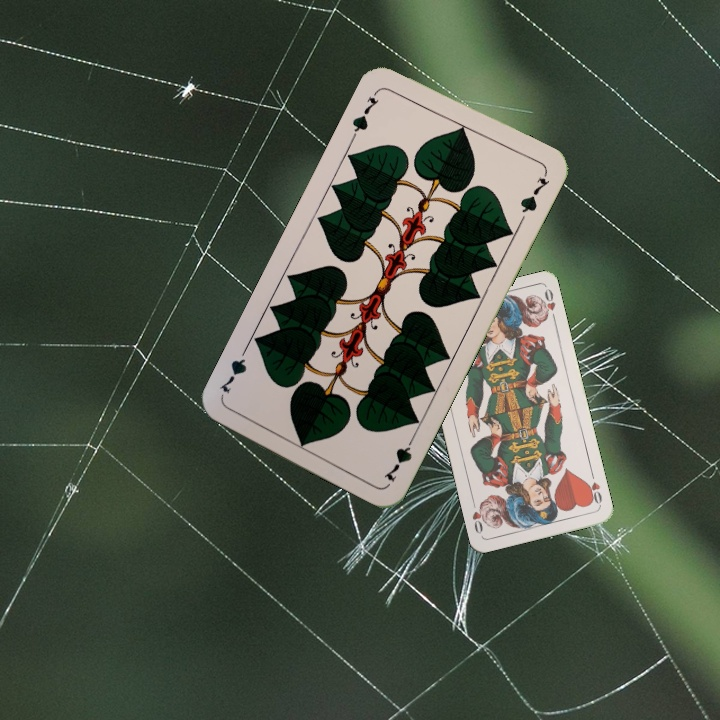G7: (379, 430, 419, 485), (348, 86, 382, 141)
HO: (582, 468, 605, 508)
